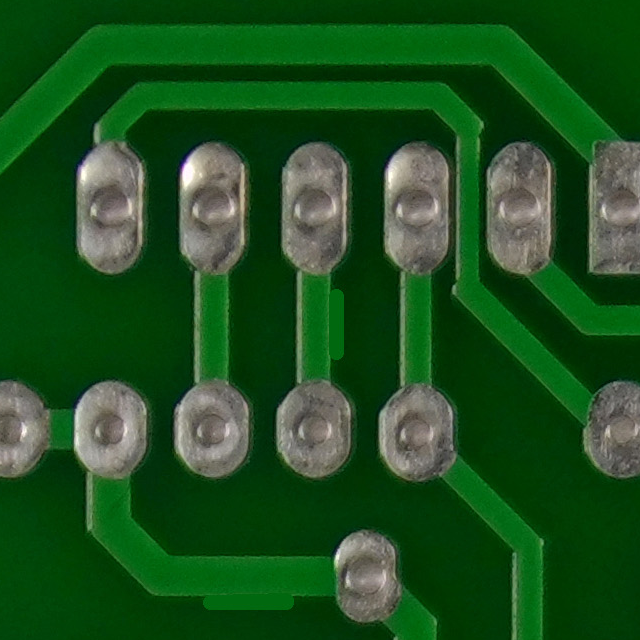spur: (186, 534, 311, 628), (284, 271, 357, 369)
